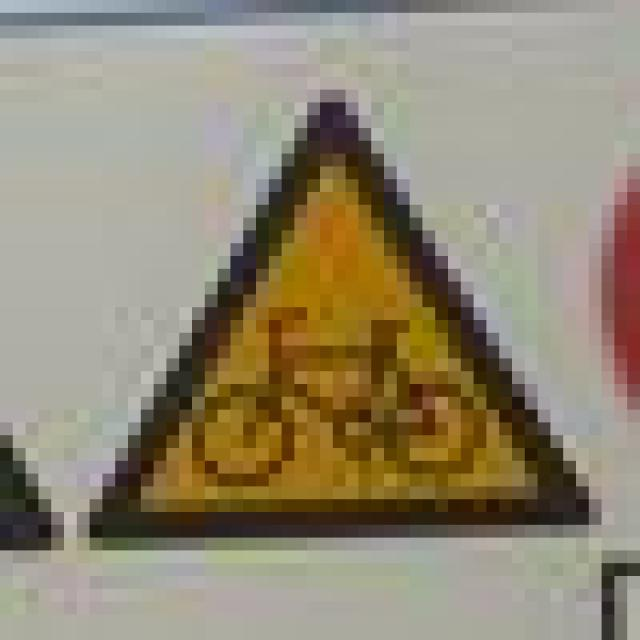cycle_crossing: (64, 64, 602, 538)
